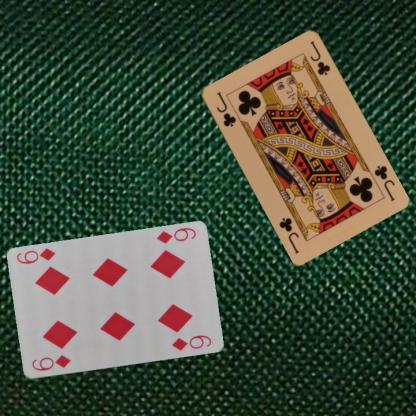6d: (29, 352, 72, 372), (154, 225, 197, 245)
Jc: (371, 162, 396, 203), (213, 89, 237, 128)
